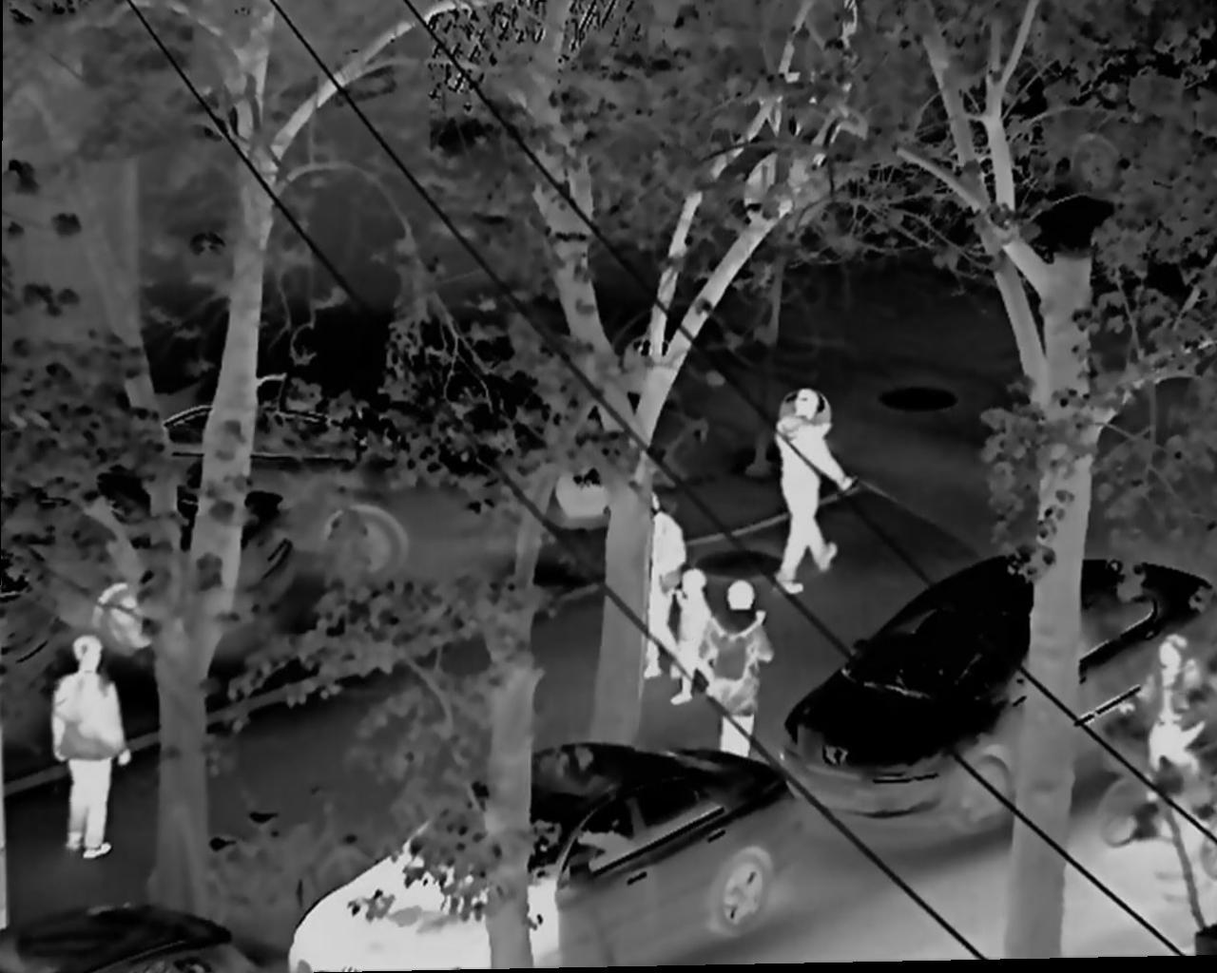person: (53, 639, 127, 856), (770, 385, 837, 603), (699, 577, 773, 773), (1146, 635, 1216, 795), (634, 497, 677, 676), (670, 563, 721, 713)
